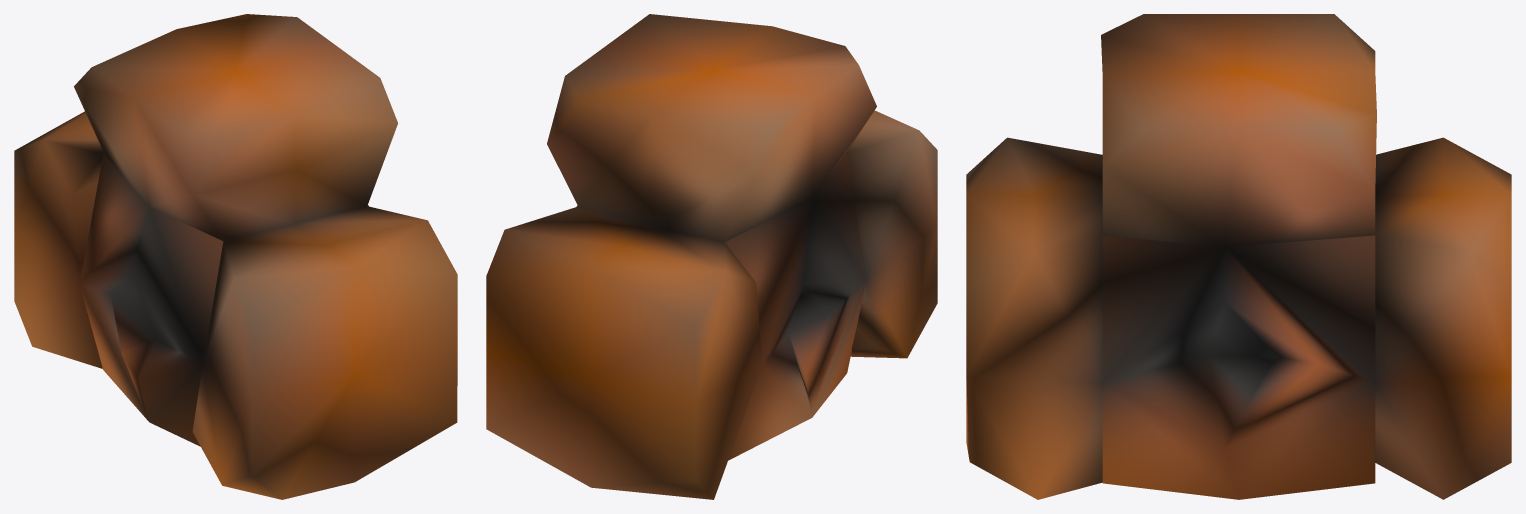
Rendered from battery_box_lod5.glb.
3 views of the same model, side by side, from view 1: azimuth 30°, elevation 25°; view 2: azimuth 150°, elevation 25°; view 3: azimuth 270°, elevation 25° (orthographic). The views are drawn at different scales.
Parts seen in each view (by area): view 1: battery_box; view 2: battery_box; view 3: battery_box.
Part boxes in pixels (<box>): battery_box: <box>14,14,457,499</box>; battery_box: <box>486,14,937,499</box>; battery_box: <box>966,14,1511,499</box>.
Size of the model in its own units: 2.01 by 3.01 by 4.
